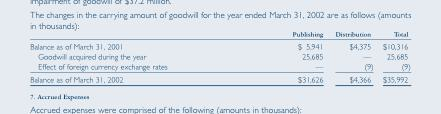table: (29, 29, 409, 83)
table column: (29, 29, 229, 83), (229, 29, 328, 83), (328, 29, 377, 83), (377, 29, 409, 83)
table column header: (29, 29, 409, 39)
table row: (29, 60, 409, 72), (29, 39, 409, 50), (29, 72, 409, 83), (29, 29, 409, 39), (29, 50, 409, 60)
